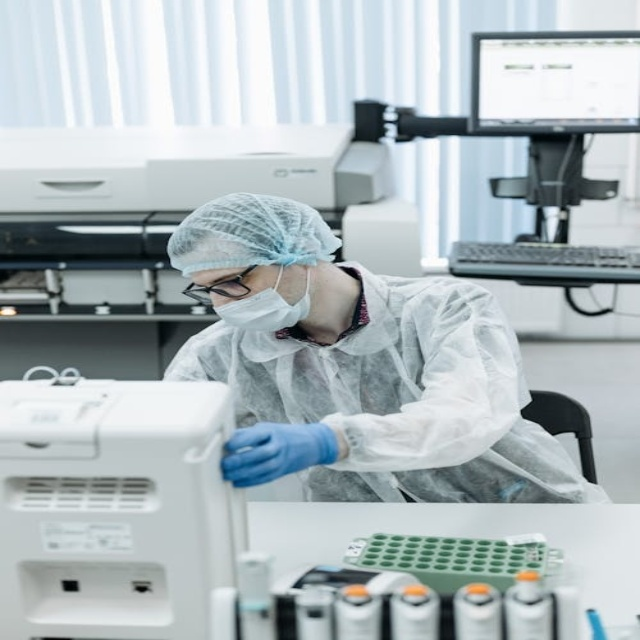Gafas: (182, 263, 260, 304)
Guantes: (220, 420, 338, 487)
Mascara: (205, 261, 316, 353)
